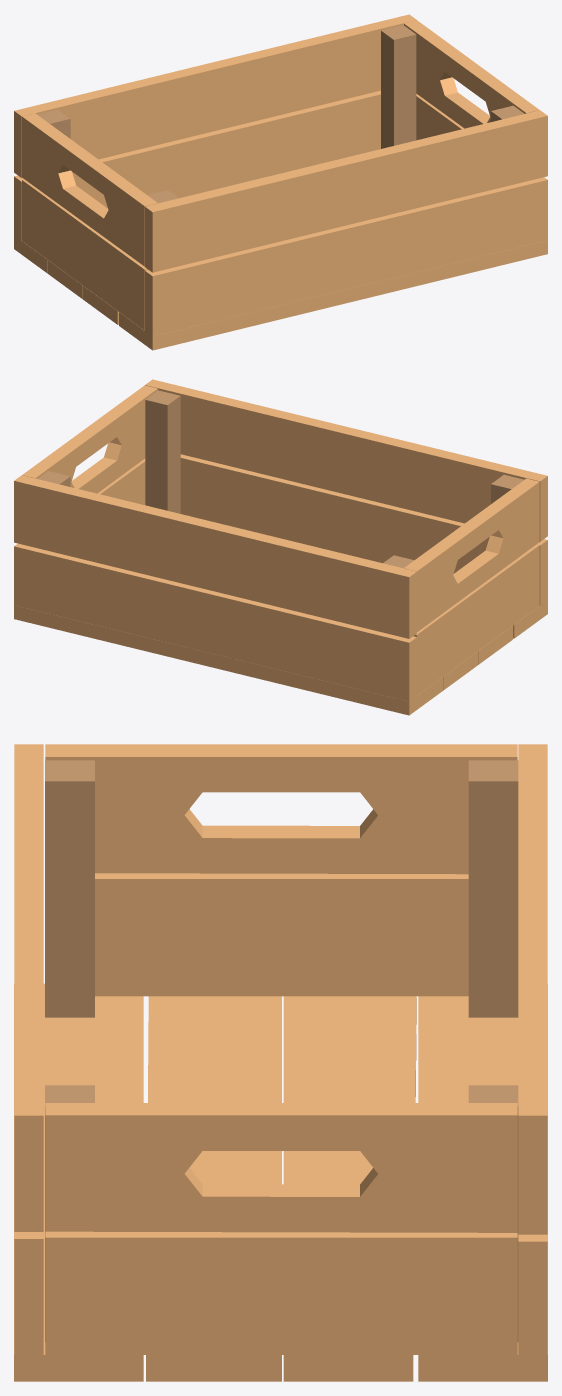
The picture shows the model from 3 angles, top to bottom: view 1: azimuth 30°, elevation 25°; view 2: azimuth 150°, elevation 25°; view 3: azimuth 270°, elevation 25°; orthographic projection. The views are drawn at different scales.
Visible parts, largest first — view 1: crates.009; view 2: crates.009; view 3: crates.009.
Boxes of the visible parts, bbox=[...] form: crates.009: bbox=[14, 14, 547, 350]; crates.009: bbox=[14, 379, 547, 715]; crates.009: bbox=[14, 744, 547, 1381].
Bounding box in the file's own units: 331 × 111 × 201.
